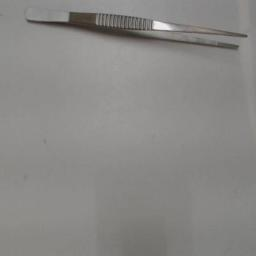DeBakey Dissector: (19, 8, 255, 72)
